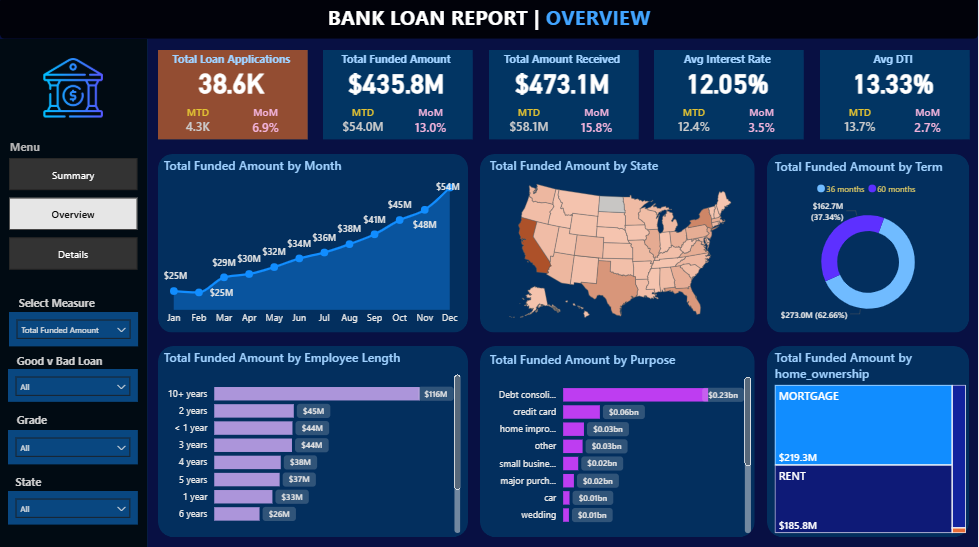

Layout of this report page (visuals, bound fields, positions):
{"tool":"powerbi","page":{"name":"Overview","canvas":[1280,720],"ordinal":1},"visuals":[{"type":"shape","box":[0,0,1280.5,54.6],"z":0},{"type":"group","id":"g1","title":"Group 1","box":[203.1,69.4,199.4,120.6],"z":0,"group":"g6"},{"type":"group","id":"g2","title":"Group 1","box":[419.5,69.4,199.4,120.6],"z":0,"group":"g7"},{"type":"group","id":"g3","title":"Group 1","box":[636,69.4,199.4,120.6],"z":0,"group":"g8"},{"type":"group","id":"g4","title":"Group 1","box":[852.6,69.4,199.4,120.6],"z":0,"group":"g9"},{"type":"group","id":"g5","title":"Group 1","box":[1069.1,69.4,199.4,120.6],"z":0,"group":"g10"},{"type":"textbox","box":[203.6,67.3,199.3,30.8],"z":1000,"group":"g6"},{"type":"textbox","box":[420,67.3,199.3,30.8],"z":1000,"group":"g7"},{"type":"textbox","box":[636.5,67.3,199.3,30.8],"z":1000,"group":"g8"},{"type":"textbox","box":[853.1,67.3,199.3,30.8],"z":1000,"group":"g9"},{"type":"textbox","box":[1069.6,67.3,199.3,30.8],"z":1000,"group":"g10"},{"type":"shape","box":[206.5,205.3,405.9,233.8],"z":1000},{"type":"textbox","box":[8.3,386.4,132.6,29],"z":1000,"group":"g19"},{"type":"textbox","box":[8.1,461.6,140,35.6],"z":1000,"group":"g16"},{"type":"textbox","box":[9.9,539.5,62.5,32.4],"z":1000,"group":"g17"},{"type":"textbox","box":[1.8,620.6,71.2,29.7],"z":1000,"group":"g18"},{"type":"shape","box":[627.8,205.3,359.6,233.8],"z":2000},{"type":"shape","box":[0,54.6,192.9,665.8],"z":3000},{"type":"shape","box":[206.5,69.4,195.9,117.2],"z":3000,"group":"g1"},{"type":"shape","box":[422.9,69.4,195.9,117.2],"z":3000,"group":"g2"},{"type":"shape","box":[639.4,69.4,195.9,117.2],"z":3000,"group":"g3"},{"type":"shape","box":[856,69.4,195.9,117.2],"z":3000,"group":"g4"},{"type":"shape","box":[1072.5,69.4,195.9,117.2],"z":3000,"group":"g5"},{"type":"shape","box":[0,54.6,192.9,665.8],"z":4000},{"type":"textbox","box":[403,2.1,474.5,45.6],"z":5000},{"type":"image","box":[10.5,0,65.1,54.6],"z":6000},{"type":"textbox","box":[69.7,8.1,158,40.7],"z":7000},{"type":"group","id":"g6","title":"Group 2","box":[203.1,67.3,199.8,122.6],"z":7000,"group":"g11"},{"type":"group","id":"g7","title":"Group 2","box":[419.5,67.3,199.8,122.6],"z":7000,"group":"g12"},{"type":"group","id":"g8","title":"Group 2","box":[636,67.3,199.8,122.6],"z":7000,"group":"g13"},{"type":"group","id":"g9","title":"Group 2","box":[852.6,67.3,199.8,122.6],"z":7000,"group":"g14"},{"type":"group","id":"g10","title":"Group 2","box":[1069.1,67.3,199.8,122.6],"z":7000,"group":"g15"},{"type":"group","id":"g11","title":"Group 3","box":[203.1,67.3,199.8,123.3],"z":8000},{"type":"card","fields":{"Values":["financial_loan.Total Loan Applications"]},"box":[203.1,88.3,199.3,45.5],"z":8000,"group":"g1"},{"type":"card","fields":{"Values":["financial_loan.Total Loan Amount"]},"box":[419.5,88.3,199.3,45.5],"z":8000,"group":"g2"},{"type":"card","fields":{"Values":["financial_loan.Total Amount Collection"]},"box":[636,88.3,199.3,45.5],"z":8000,"group":"g3"},{"type":"card","fields":{"Values":["financial_loan.Avg Interest Rate"]},"box":[852.6,88.3,199.3,45.5],"z":8000,"group":"g4"},{"type":"card","fields":{"Values":["financial_loan.Avg DTI"]},"box":[1069.1,88.3,199.3,45.5],"z":8000,"group":"g5"},{"type":"card","title":"MoM","fields":{"Values":["financial_loan.YOY Loan Applications"]},"box":[303.6,141.9,88.1,48.7],"z":8000,"group":"g11"},{"type":"card","title":"MoM","fields":{"Values":["financial_loan.YOY Loan Amount"]},"box":[520,141.9,88.1,48.7],"z":8000,"group":"g12"},{"type":"card","title":"MoM","fields":{"Values":["financial_loan.YOY Loan Collection"]},"box":[736.5,141.9,88.1,48.7],"z":8000,"group":"g13"},{"type":"card","title":"MoM","fields":{"Values":["financial_loan.YOY Int Rate"]},"box":[953.1,141.9,88.1,48.7],"z":8000,"group":"g14"},{"type":"card","title":"MoM","fields":{"Values":["financial_loan.YOY DTI"]},"box":[1169.6,141.9,88.1,48.7],"z":8000,"group":"g15"},{"type":"group","id":"g12","title":"Group 3","box":[419.5,67.3,199.9,123.3],"z":9000},{"type":"card","title":"MTD","fields":{"Values":["financial_loan.MTD Applications"]},"box":[209.8,142,99.3,48],"z":9000,"group":"g1"},{"type":"card","title":"MTD","fields":{"Values":["financial_loan.MTD Loan Amount"]},"box":[426.2,142,99.3,48],"z":9000,"group":"g2"},{"type":"card","title":"MTD","fields":{"Values":["financial_loan.MTD Loan Collection"]},"box":[642.7,142,99.3,48],"z":9000,"group":"g3"},{"type":"card","title":"MTD","fields":{"Values":["financial_loan.MTD Avg Int Rate"]},"box":[859.3,142,99.3,48],"z":9000,"group":"g4"},{"type":"card","title":"MTD","fields":{"Values":["financial_loan.MTD Avg DTI"]},"box":[1075.8,142,99.3,48],"z":9000,"group":"g5"},{"type":"group","id":"g13","title":"Group 3","box":[636,67.3,199.9,123.3],"z":10000},{"type":"group","id":"g14","title":"Group 3","box":[852.6,67.3,199.9,123.3],"z":11000},{"type":"group","id":"g15","title":"Group 3","box":[1069.1,67.3,199.9,123.3],"z":12000},{"type":"shape","box":[206.5,456.9,405.9,250.4],"z":13000},{"type":"image","box":[26.8,69.2,138.4,99.3],"z":14000},{"type":"areaChart","fields":{"Y":["financial_loan.Total Funded Amount"],"Category":["Date Table.Month"]},"box":[210.1,210.1,397.6,229],"z":15000},{"type":"shape","box":[1004,205.3,264.6,233.8],"z":16000},{"type":"slicer","fields":{"Values":["Select Measure.Select Measure"]},"box":[11.4,412.3,168.9,44.5],"z":17000},{"type":"shape","box":[627.8,456.9,359.6,250.4],"z":18000},{"type":"shape","box":[1004,456.9,264.6,250.4],"z":19000},{"type":"slicer","fields":{"Values":["financial_loan.Good v Bad Loan"]},"box":[10.1,487,169.7,43],"z":20000},{"type":"slicer","fields":{"Values":["financial_loan.grade"]},"box":[10.4,566.7,169.9,44.5],"z":21000},{"type":"slicer","fields":{"Values":["financial_loan.address_state"]},"box":[10,647.3,169.9,43.5],"z":22000},{"type":"group","id":"g16","title":"Group 2","box":[8.1,461.6,140,35.6],"z":23000},{"type":"group","id":"g17","title":"Group 2","box":[9.9,539.5,62.5,32.4],"z":24000},{"type":"group","id":"g18","title":"Group 2","box":[1.8,620.6,71.2,29.7],"z":25000},{"type":"pageNavigator","box":[11.4,211.4,168.6,147.3],"z":26000},{"type":"group","id":"g19","title":"Group 2","box":[8.3,386.4,132.6,29],"z":27000},{"type":"textbox","box":[8.3,180.3,157.5,34.2],"z":28000},{"type":"shapeMap","fields":{"Value":["financial_loan.Total Funded Amount"],"Category":["financial_loan.State"]},"box":[636.2,209.7,351.9,224.9],"z":29000},{"type":"donutChart","fields":{"Y":["financial_loan.Total Funded Amount"],"Category":["financial_loan.term"]},"box":[1009,210.9,254,223.7],"z":30000},{"type":"barChart","fields":{"Y":["financial_loan.Total Funded Amount"],"Category":["financial_loan.emp_length"]},"box":[209.7,461.4,398.5,245.8],"z":31000},{"type":"barChart","fields":{"Y":["financial_loan.Total Funded Amount"],"Category":["financial_loan.purpose"]},"box":[636.2,463.7,351.9,243.5],"z":32000},{"type":"treemap","fields":{"Values":["financial_loan.Total Funded Amount"],"Group":["financial_loan.home_ownership"]},"box":[1009,461.4,259.8,245.8],"z":33000}]}

Visuals, with their boxes in screenshot pixels (x1, y1, x2, y2), scaled from the page's 1280x720 canvas onto the 979x547 screenshot:
shape: <region>0, 0, 978, 41</region>
"Group 1" group: <region>155, 53, 308, 144</region>
"Group 1" group: <region>321, 53, 473, 144</region>
"Group 1" group: <region>486, 53, 639, 144</region>
"Group 1" group: <region>652, 53, 805, 144</region>
"Group 1" group: <region>818, 53, 970, 144</region>
textbox: <region>156, 51, 308, 75</region>
textbox: <region>321, 51, 474, 75</region>
textbox: <region>487, 51, 639, 75</region>
textbox: <region>652, 51, 805, 75</region>
textbox: <region>818, 51, 971, 75</region>
shape: <region>158, 156, 468, 334</region>
textbox: <region>6, 294, 108, 316</region>
textbox: <region>6, 351, 113, 378</region>
textbox: <region>8, 410, 55, 434</region>
textbox: <region>1, 471, 56, 494</region>
shape: <region>480, 156, 755, 334</region>
shape: <region>0, 41, 148, 546</region>
shape: <region>158, 53, 308, 142</region>
shape: <region>323, 53, 473, 142</region>
shape: <region>489, 53, 639, 142</region>
shape: <region>655, 53, 805, 142</region>
shape: <region>820, 53, 970, 142</region>
shape: <region>0, 41, 148, 546</region>
textbox: <region>308, 2, 671, 36</region>
image: <region>8, 0, 58, 41</region>
textbox: <region>53, 6, 174, 37</region>
"Group 2" group: <region>155, 51, 308, 144</region>
"Group 2" group: <region>321, 51, 474, 144</region>
"Group 2" group: <region>486, 51, 639, 144</region>
"Group 2" group: <region>652, 51, 805, 144</region>
"Group 2" group: <region>818, 51, 971, 144</region>
"Group 3" group: <region>155, 51, 308, 145</region>
card - financial_loan.Total Loan Applications: <region>155, 67, 308, 102</region>
card - financial_loan.Total Loan Amount: <region>321, 67, 473, 102</region>
card - financial_loan.Total Amount Collection: <region>486, 67, 639, 102</region>
card - financial_loan.Avg Interest Rate: <region>652, 67, 805, 102</region>
card - financial_loan.Avg DTI: <region>818, 67, 970, 102</region>
"MoM" card: <region>232, 108, 300, 145</region>
"MoM" card: <region>398, 108, 465, 145</region>
"MoM" card: <region>563, 108, 631, 145</region>
"MoM" card: <region>729, 108, 796, 145</region>
"MoM" card: <region>895, 108, 962, 145</region>
"Group 3" group: <region>321, 51, 474, 145</region>
"MTD" card: <region>160, 108, 236, 144</region>
"MTD" card: <region>326, 108, 402, 144</region>
"MTD" card: <region>492, 108, 568, 144</region>
"MTD" card: <region>657, 108, 733, 144</region>
"MTD" card: <region>823, 108, 899, 144</region>
"Group 3" group: <region>486, 51, 639, 145</region>
"Group 3" group: <region>652, 51, 805, 145</region>
"Group 3" group: <region>818, 51, 971, 145</region>
shape: <region>158, 347, 468, 537</region>
image: <region>20, 53, 126, 128</region>
areaChart - financial_loan.Total Funded Amount x Date Table.Month: <region>161, 160, 465, 334</region>
shape: <region>768, 156, 970, 334</region>
slicer - Select Measure.Select Measure: <region>9, 313, 138, 347</region>
shape: <region>480, 347, 755, 537</region>
shape: <region>768, 347, 970, 537</region>
slicer - financial_loan.Good v Bad Loan: <region>8, 370, 138, 403</region>
slicer - financial_loan.grade: <region>8, 431, 138, 464</region>
slicer - financial_loan.address_state: <region>8, 492, 138, 525</region>
"Group 2" group: <region>6, 351, 113, 378</region>
"Group 2" group: <region>8, 410, 55, 434</region>
"Group 2" group: <region>1, 471, 56, 494</region>
pageNavigator: <region>9, 161, 138, 273</region>
"Group 2" group: <region>6, 294, 108, 316</region>
textbox: <region>6, 137, 127, 163</region>
shapeMap - financial_loan.Total Funded Amount x financial_loan.State: <region>487, 159, 756, 330</region>
donutChart - financial_loan.Total Funded Amount x financial_loan.term: <region>772, 160, 966, 330</region>
barChart - financial_loan.Total Funded Amount x financial_loan.emp_length: <region>160, 351, 465, 537</region>
barChart - financial_loan.Total Funded Amount x financial_loan.purpose: <region>487, 352, 756, 537</region>
treemap - financial_loan.Total Funded Amount x financial_loan.home_ownership: <region>772, 351, 970, 537</region>
